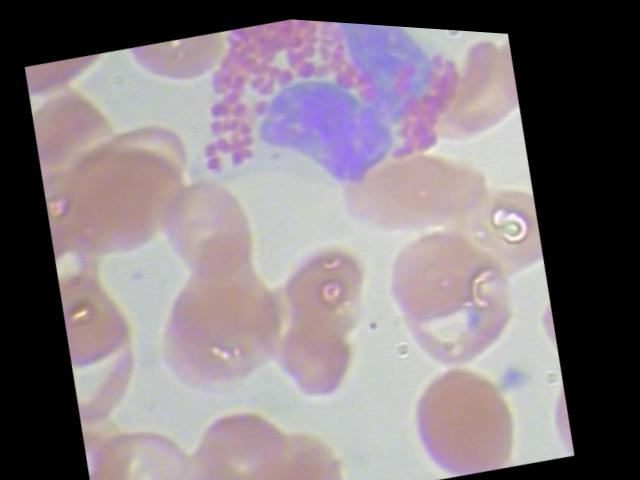Platelets: (496, 345, 542, 395)
Red Blood Cells: (137, 235, 304, 406), (41, 109, 195, 276), (328, 119, 507, 259), (398, 335, 535, 479), (145, 156, 272, 298), (432, 169, 555, 291), (373, 212, 497, 333), (178, 381, 322, 479), (258, 296, 374, 416), (267, 226, 383, 346), (415, 25, 530, 145), (96, 22, 233, 111), (54, 254, 151, 378), (83, 397, 213, 479), (242, 407, 355, 479), (23, 44, 127, 107)
White Blood Cells: (148, 8, 484, 228)
